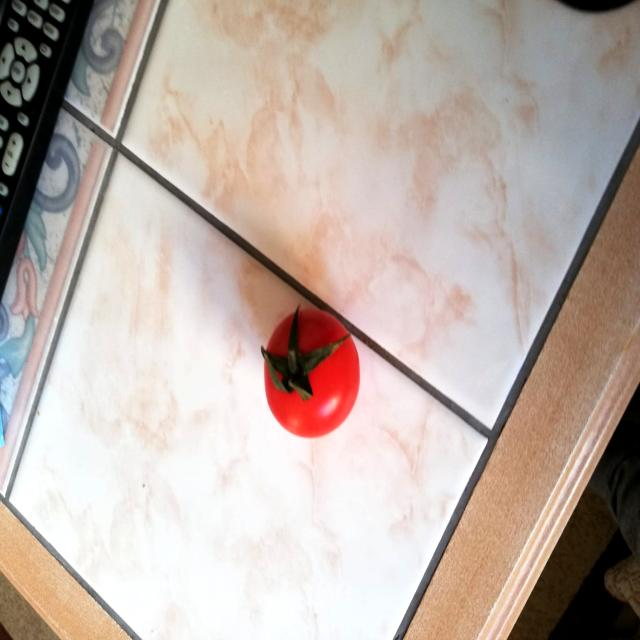tomato: (256, 295, 367, 443)
